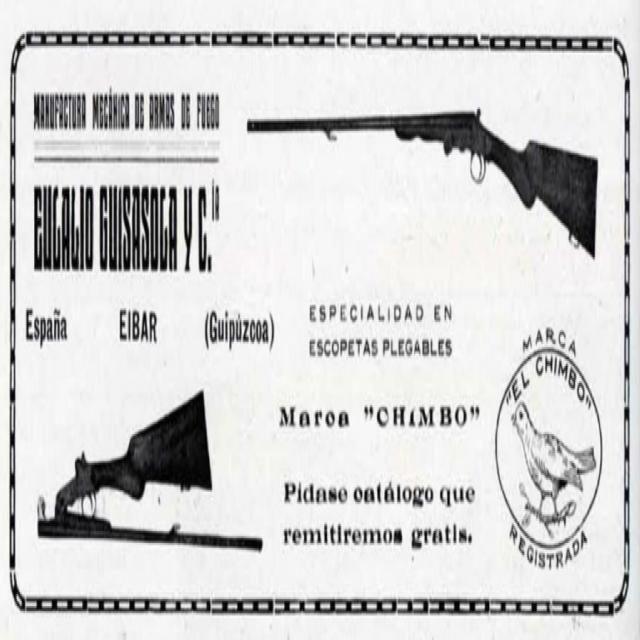weapon: (245, 102, 598, 264), (38, 389, 262, 554)
